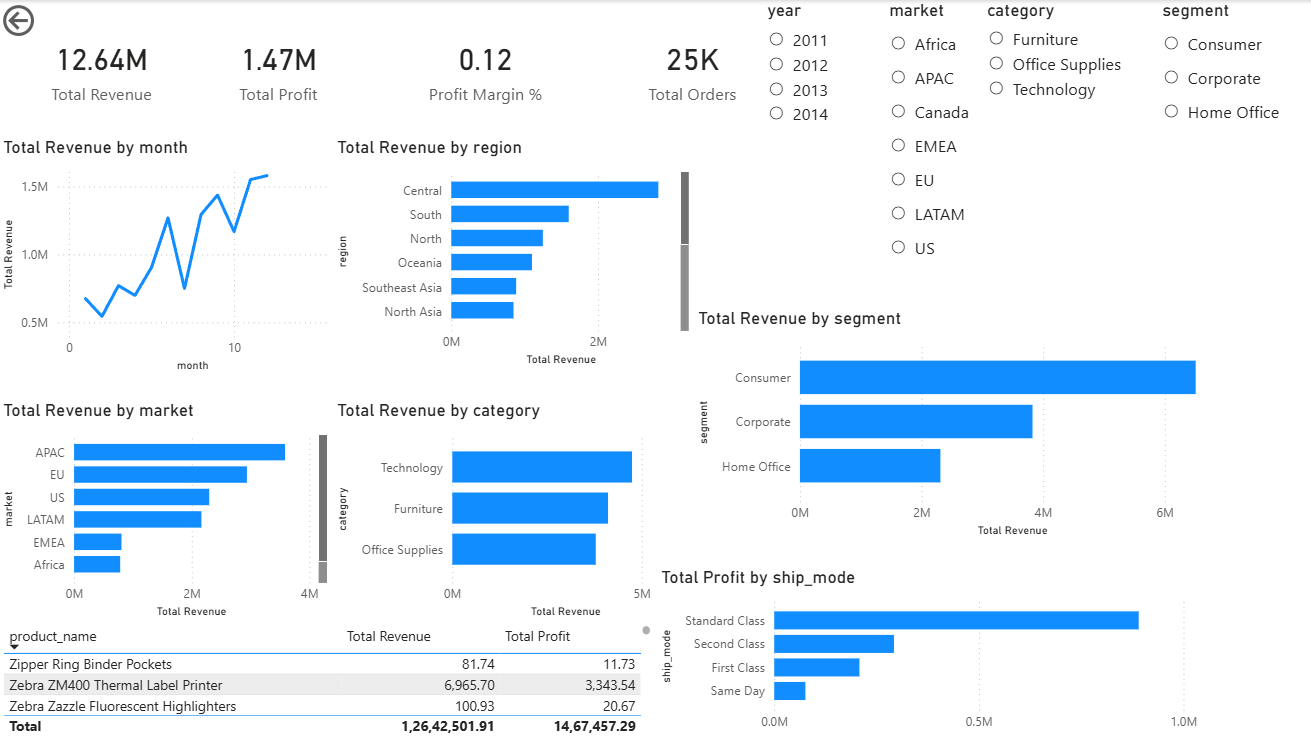

This screenshot's page, from the dashboard's own definition file:
{"tool":"powerbi","page":{"name":"Page 1","canvas":[1280,720],"ordinal":0},"visuals":[{"type":"card","fields":{"Values":["fact_sales.Total Revenue"]},"box":[0,0,201.3,133.3],"z":0},{"type":"card","fields":{"Values":["fact_sales.Total Profit"]},"box":[172.2,0,201.3,133.3],"z":1000},{"type":"card","fields":{"Values":["fact_sales.Profit Margin %"]},"box":[373.5,0,201.3,133.3],"z":2000},{"type":"card","fields":{"Values":["fact_sales.Total Orders"]},"box":[574.8,0,201.3,133.3],"z":3000},{"type":"lineChart","fields":{"Category":["dim_dates.month"],"Y":["fact_sales.Total Revenue"]},"box":[0,133.3,324.9,232.5],"z":4000},{"type":"clusteredBarChart","fields":{"Y":["fact_sales.Total Revenue"],"Category":["fact_sales.region"]},"box":[324.9,133.3,352.1,226.6],"z":5000},{"type":"clusteredBarChart","fields":{"Category":["fact_sales.market"],"Y":["fact_sales.Total Revenue"]},"box":[0,389.1,324.9,215.9],"z":6000},{"type":"clusteredBarChart","fields":{"Y":["fact_sales.Total Revenue"],"Category":["dim_products.category"]},"box":[324.9,389.1,352.1,215.9],"z":7000},{"type":"tableEx","fields":{"Values":["dim_products.product_name","fact_sales.Total Revenue","fact_sales.Total Profit"]},"box":[0,603,640,116.7],"z":8000},{"type":"actionButton","box":[0,0,100,40],"z":9000},{"type":"clusteredBarChart","fields":{"Y":["fact_sales.Total Revenue"],"Category":["dim_customers.segment"]},"box":[676,299.6,532,226.6],"z":10000},{"type":"clusteredBarChart","fields":{"Y":["fact_sales.Total Profit"],"Category":["fact_sales.ship_mode"]},"box":[640,551.5,532,168.3],"z":11000},{"type":"listSlicer","fields":{"Values":["dim_dates.year"]},"box":[743.1,0,118.7,228.6],"z":12000},{"type":"listSlicer","fields":{"Values":["fact_sales.market"]},"box":[861.8,0,141,299.6],"z":13000},{"type":"listSlicer","fields":{"Values":["dim_products.category"]},"box":[957.1,0,173.1,222.7],"z":13001},{"type":"listSlicer","fields":{"Values":["dim_customers.segment"]},"box":[1127.3,0,152.7,299.6],"z":13002}]}

Visuals, with their boxes in screenshot pixels (x1, y1, x2, y2), scaled from the page's 1280x720 canvas onto the 1311x736 screenshot:
card - fact_sales.Total Revenue: [0, 0, 206, 136]
card - fact_sales.Total Profit: [176, 0, 383, 136]
card - fact_sales.Profit Margin %: [383, 0, 589, 136]
card - fact_sales.Total Orders: [589, 0, 795, 136]
lineChart - dim_dates.month x fact_sales.Total Revenue: [0, 136, 333, 374]
clusteredBarChart - fact_sales.Total Revenue x fact_sales.region: [333, 136, 693, 368]
clusteredBarChart - fact_sales.market x fact_sales.Total Revenue: [0, 398, 333, 618]
clusteredBarChart - fact_sales.Total Revenue x dim_products.category: [333, 398, 693, 618]
tableEx - dim_products.product_name x fact_sales.Total Revenue: [0, 616, 656, 735]
actionButton: [0, 0, 102, 41]
clusteredBarChart - fact_sales.Total Revenue x dim_customers.segment: [692, 306, 1237, 538]
clusteredBarChart - fact_sales.Total Profit x fact_sales.ship_mode: [656, 564, 1200, 735]
listSlicer - dim_dates.year: [761, 0, 883, 234]
listSlicer - fact_sales.market: [883, 0, 1027, 306]
listSlicer - dim_products.category: [980, 0, 1158, 228]
listSlicer - dim_customers.segment: [1155, 0, 1310, 306]
